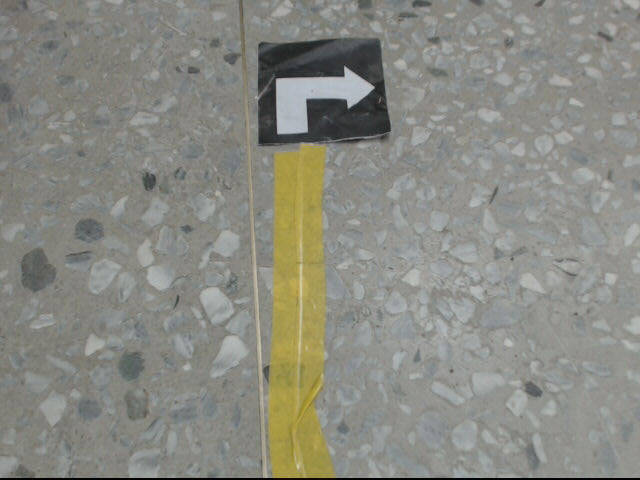right: (259, 38, 394, 144)
